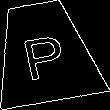P_N: (18, 24, 71, 81)
